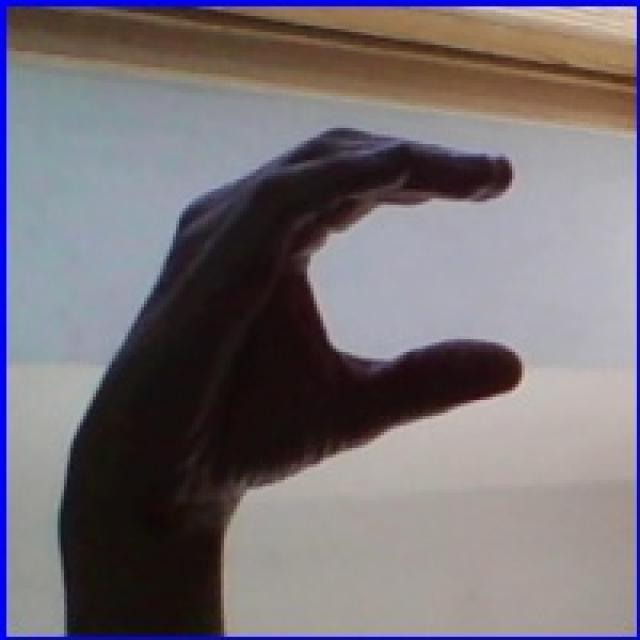C: (49, 100, 543, 625)
